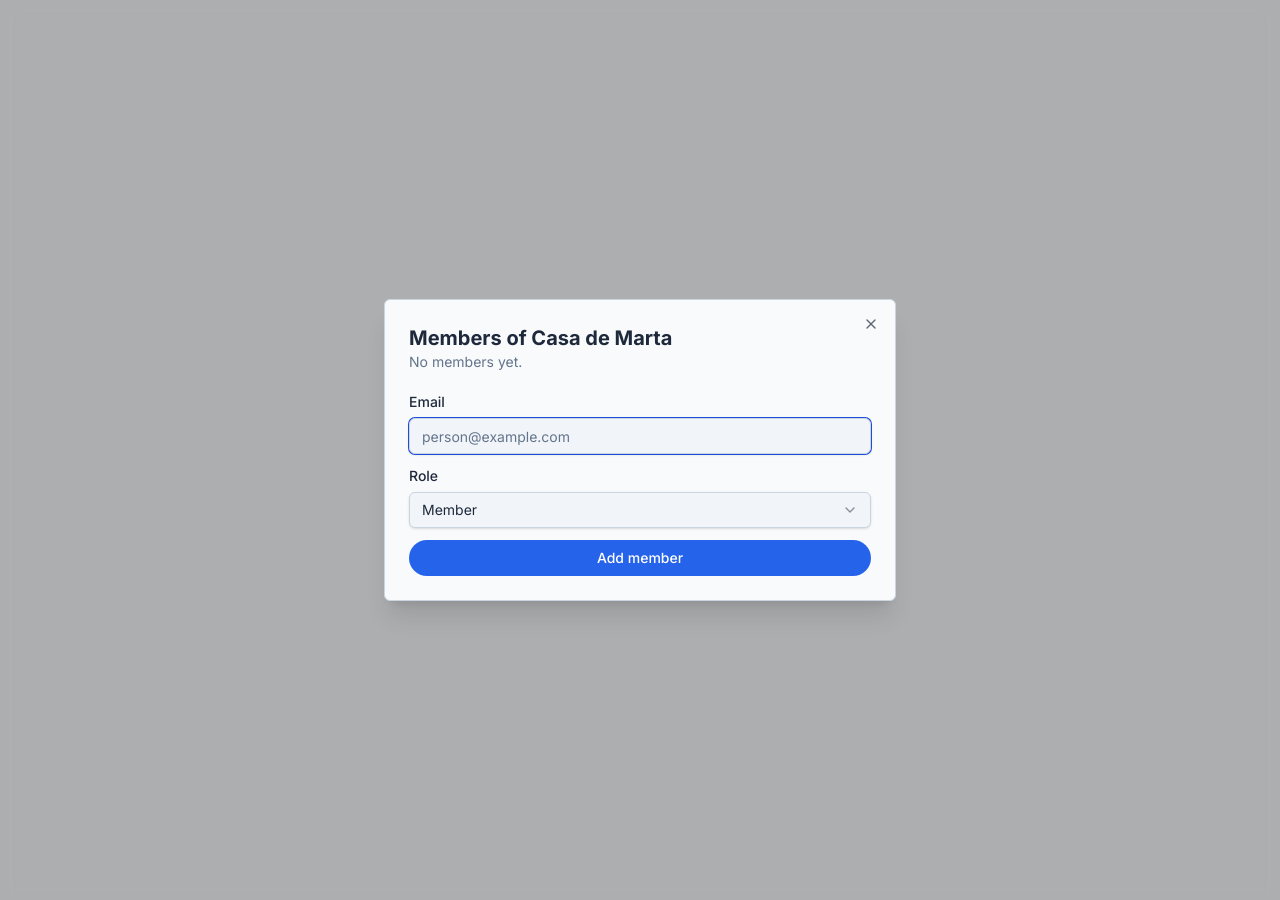
Test: TenantMembersDialog › shows a generic error alert when adding a member fails
The image size is (1280, 900).
Expected: the text "No members yet." is shown, left=409, top=353, right=522, bottom=370
Step 1. Type "jane@example.com" into the field labelled "Email" → (640, 436), box left=409, top=418, right=871, bottom=454
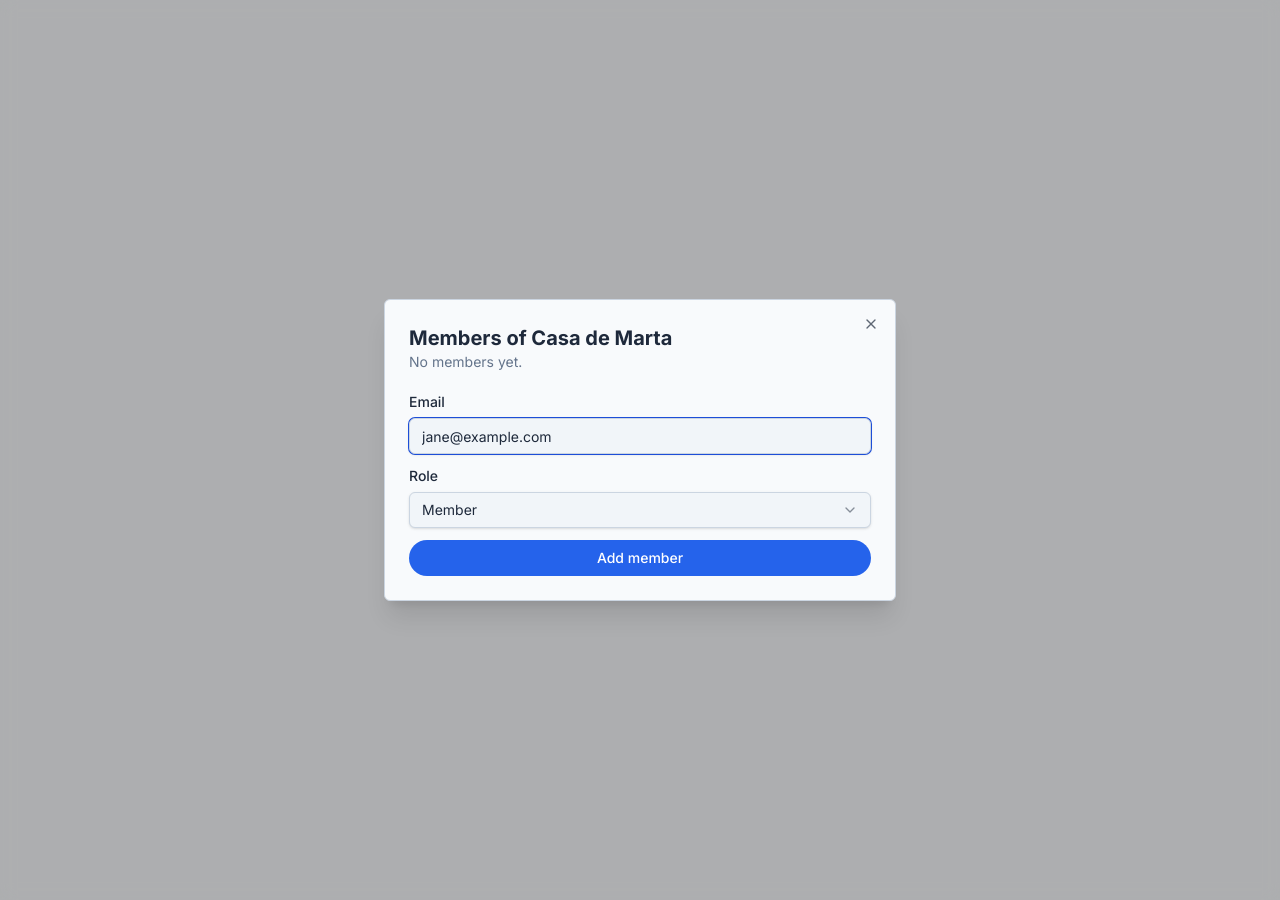
Step 2. Click the button "Add member" → click(640, 558), box left=409, top=540, right=871, bottom=576
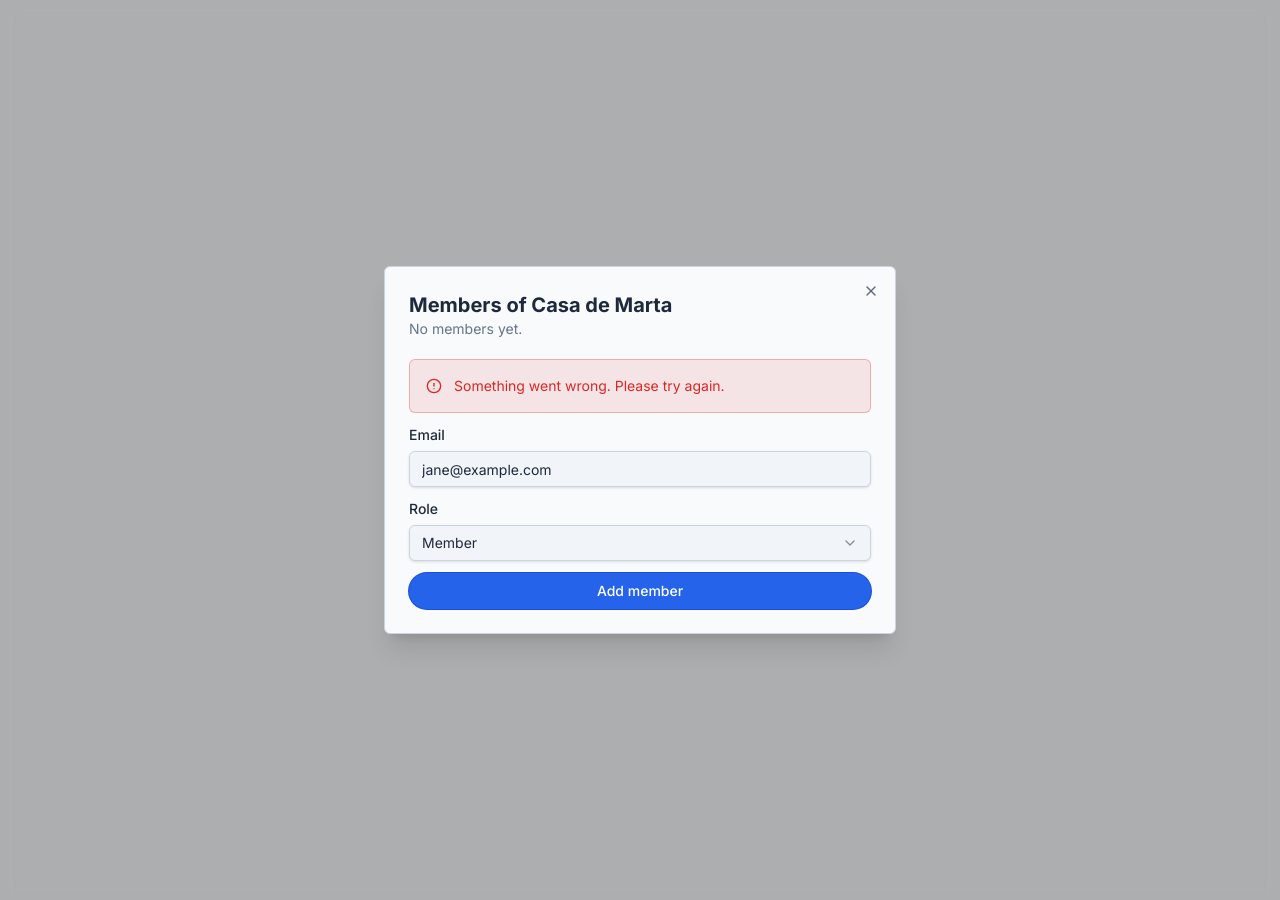
Expected: the message reads "Something went wrong. Please try again.", left=454, top=377, right=725, bottom=394
